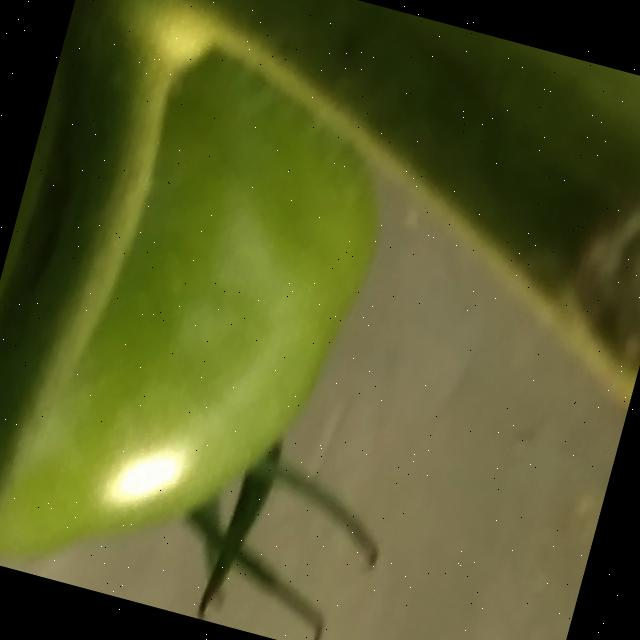tomato: (0, 0, 422, 634)
